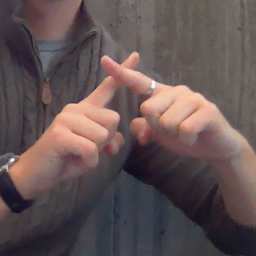X: (51, 48, 231, 162)
